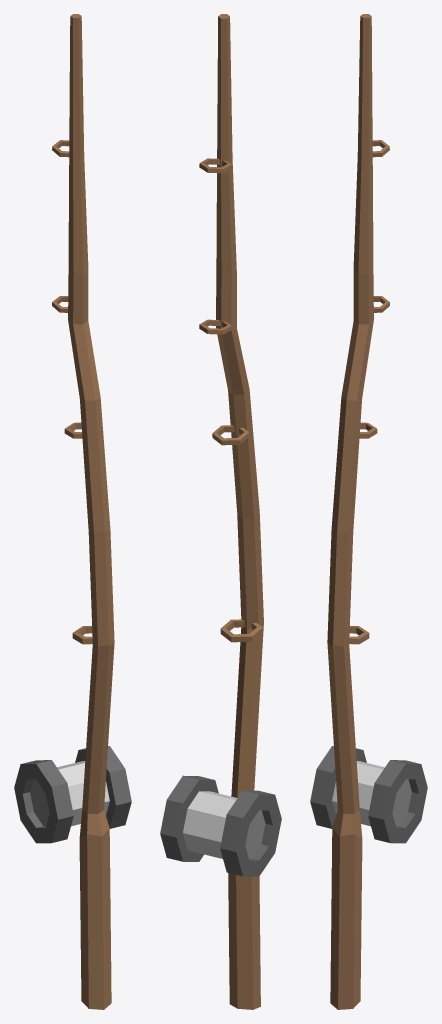
The model's file is FishingRod.fbx.
3 views of the same model, side by side, from view 1: azimuth 30°, elevation 25°; view 2: azimuth 150°, elevation 25°; view 3: azimuth 330°, elevation 25° (orthographic). The views are drawn at different scales.
Parts seen in each view (by area): view 1: FishingRod; view 2: FishingRod; view 3: FishingRod.
Boxes of the visible parts, left/top/right/bottom form: FishingRod: left=14, top=14, right=131, bottom=1009; FishingRod: left=160, top=14, right=281, bottom=1009; FishingRod: left=310, top=14, right=427, bottom=1009.
Size of the model in its own units: 0.225 by 2.84 by 0.3066.
